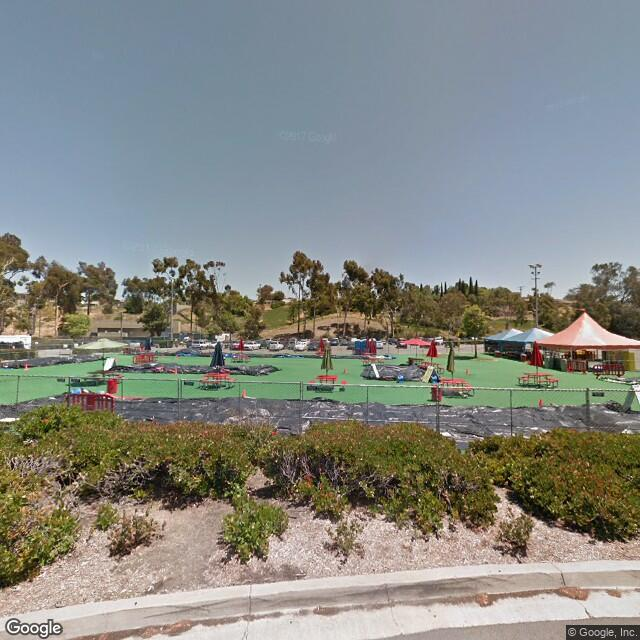litter: (147, 623, 189, 633), (561, 588, 589, 599), (477, 590, 491, 610), (294, 569, 307, 578), (53, 601, 66, 607), (147, 583, 154, 591)
